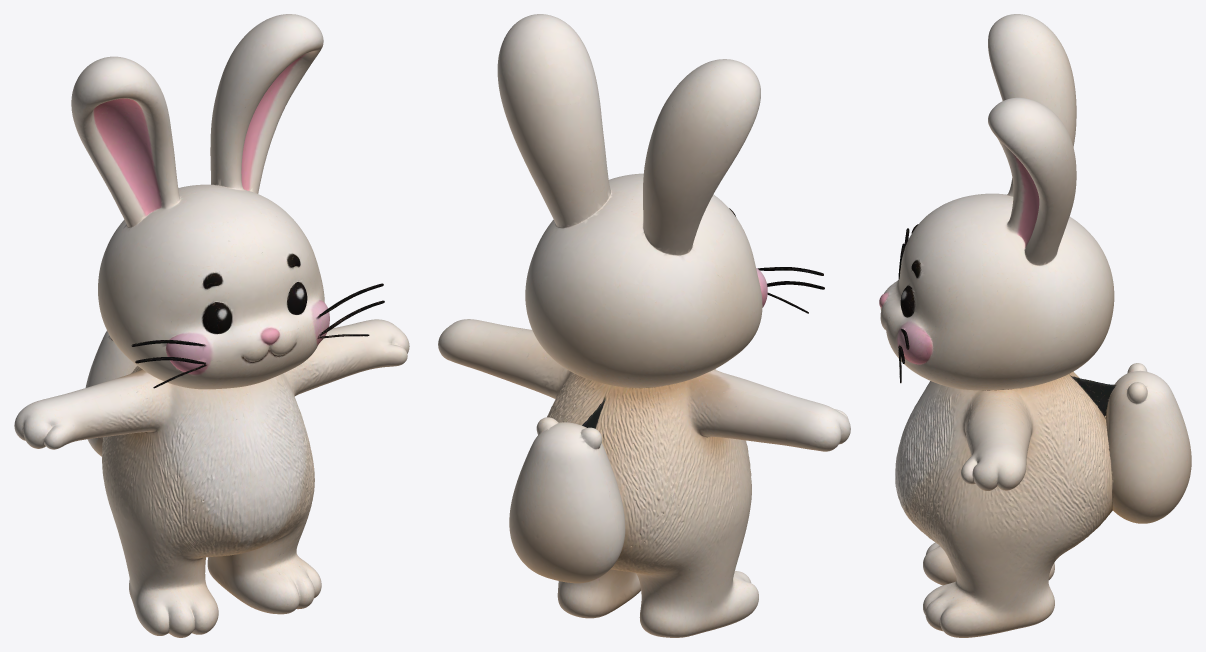
Rendered from Bunny.glb.
3 renders of one model, left to right at view 1: azimuth 30°, elevation 25°; view 2: azimuth 150°, elevation 25°; view 3: azimuth 270°, elevation 25°, orthographic. The views are drawn at different scales.
Visible parts, largest first — view 1: geometry_0; view 2: geometry_0; view 3: geometry_0.
Part boxes in pixels (<box>): geometry_0: <box>14,14,409,637</box>; geometry_0: <box>438,14,850,637</box>; geometry_0: <box>879,14,1191,637</box>.
Size of the model in its own units: 0.7201 by 1 by 0.5223.
1 material, 1 textured.
